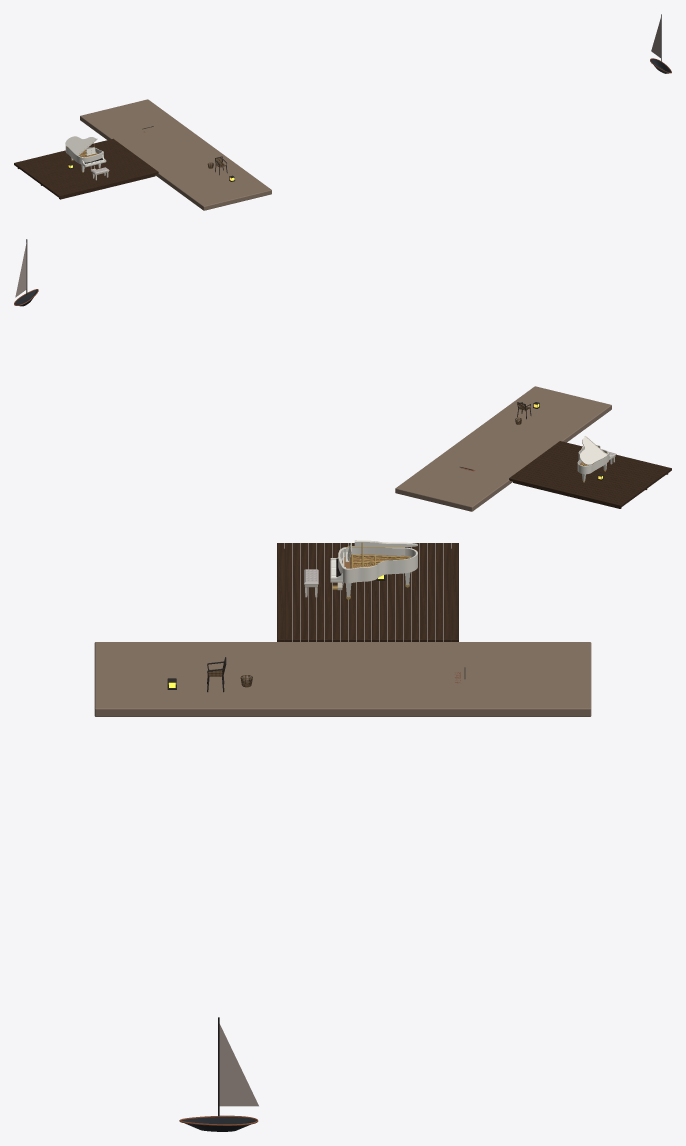
File: piano_seaside_material.glb
3 views of the same model, one above another, from view 1: azimuth 30°, elevation 25°; view 2: azimuth 150°, elevation 25°; view 3: azimuth 270°, elevation 25° (orthographic). The views are drawn at different scales.
Visible parts, largest first — view 1: S01 local sand patch, D01 deck plank 00, P02 raised lid; view 2: S01 local sand patch, D01 deck plank 22, P02 raised lid; view 3: S01 local sand patch, P01 grand piano curved rim and bottom, V02 triangular sail, D01 deck plank 18.
Boxes of the visible parts, left/top/right/bottom form: S01 local sand patch: left=80, top=99, right=271, bottom=210; D01 deck plank 00: left=57, top=170, right=158, bottom=197; P02 raised lid: left=65, top=136, right=97, bottom=155; S01 local sand patch: left=395, top=386, right=611, bottom=511; D01 deck plank 22: left=509, top=477, right=622, bottom=507; P02 raised lid: left=579, top=436, right=607, bottom=465; S01 local sand patch: left=94, top=642, right=591, bottom=716; P01 grand piano curved rim and bottom: left=338, top=546, right=417, bottom=583; V02 triangular sail: left=219, top=1024, right=258, bottom=1106; D01 deck plank 18: left=419, top=543, right=427, bottom=641.
Size of what is drawn, in the model's own units: 44.06 by 3.99 by 16.
Materials: 16 (1 with a texture image).
